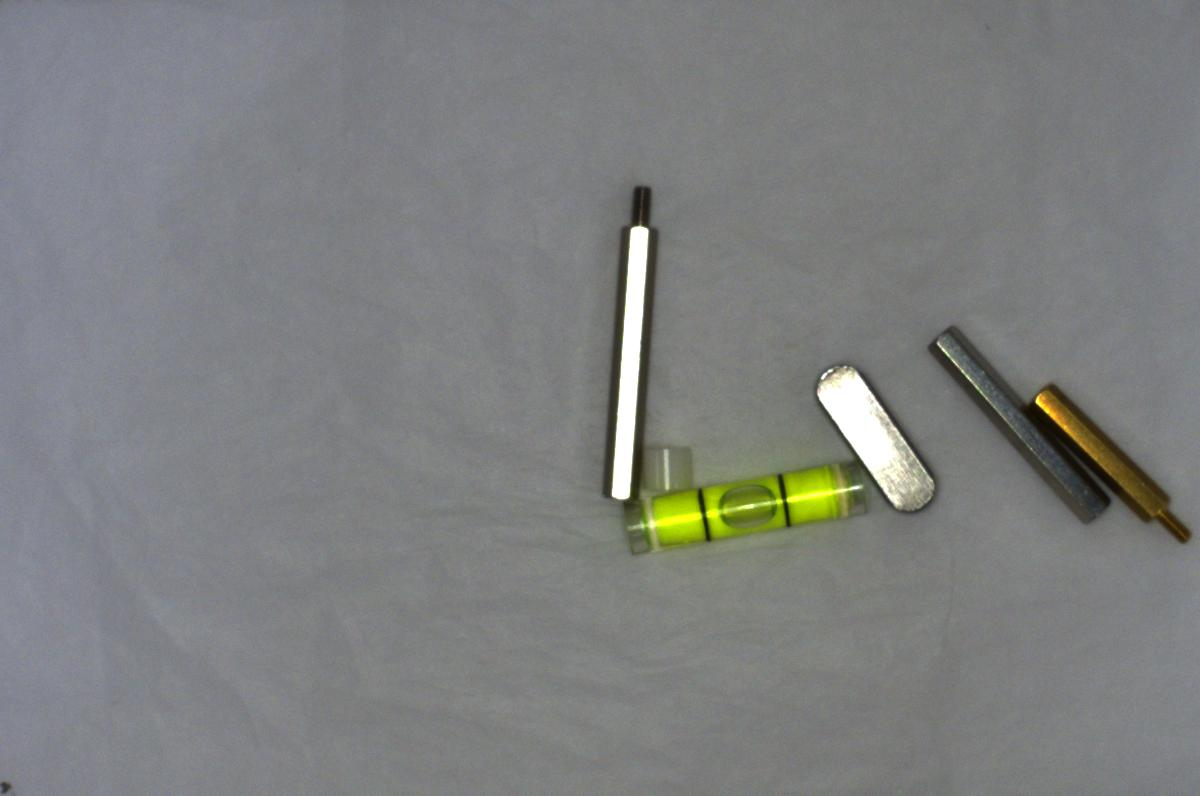Double hexagonal column: (929, 318, 1112, 524)
Hexagon pillar: (1030, 382, 1193, 550)
Hexagonal steel column: (593, 177, 648, 509)
Horizontal bubble: (620, 456, 875, 558)
Keybar: (806, 350, 947, 521)
Plastic cushion pillar: (632, 437, 700, 498)
